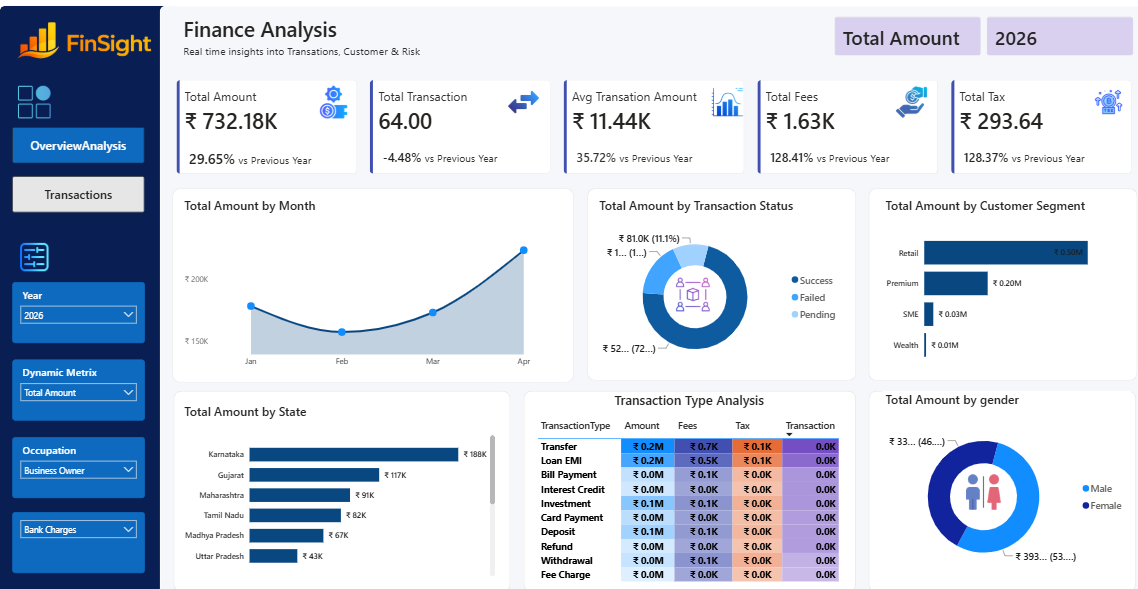

The page's visual inventory and layout, read from the dashboard file:
{"tool":"powerbi","page":{"name":"OverviewAnalysis","canvas":[1800,950],"ordinal":0},"visuals":[{"type":"shape","box":[13.5,13.5,279.8,920.5],"z":0},{"type":"shape","box":[260.5,13.5,1530,920.5],"z":1000},{"type":"image","box":[32.8,13.5,227.7,108.1],"z":2000},{"type":"cardVisual","fields":{"Data":["finance_transactions.Dashboard Title"]},"box":[279.8,0,1134.7,121.6],"z":3000},{"type":"cardVisual","fields":{"Data":["finance_transactions.Total Amount","finance_transactions.Total Transation","finance_transactions.Average Transation Amount","finance_transactions.Total Fees","finance_transactions.Total Tax"]},"box":[279.8,121.6,1489.7,157],"z":4000},{"type":"image","box":[503.6,137,50,50.2],"z":5000},{"type":"image","box":[1111.5,137,50,50.2],"z":6000},{"type":"image","box":[797,137,50,50.2],"z":7000},{"type":"image","box":[1700,137,50,50.2],"z":8000},{"type":"image","box":[1389.4,137,63.7,50.2],"z":9000},{"type":"shape","box":[279.8,295.2,620,300],"z":10000},{"type":"areaChart","fields":{"Category":["Calender Table.Month"],"Y":["finance_transactions.Total Amount"]},"box":[293.3,308.7,590.5,272.1],"z":11000},{"type":"cardVisual","fields":{"Data":["finance_transactions.Selected Dynamic Measure","finance_transactions.Selected Year"]},"box":[1296.7,25.1,472.8,71.4],"z":12000},{"type":"shape","box":[920.5,295.2,415,297.2],"z":13000},{"type":"donutChart","fields":{"Category":["finance_transactions.transaction_status"],"Y":["finance_transactions.Total Amount"]},"box":[934,308.7,384,272.1],"z":14000},{"type":"shape","box":[1354.6,295.2,415,297.2],"z":15000},{"type":"barChart","fields":{"Category":["customers.customer_segment"],"Y":["finance_transactions.Total Amount"]},"box":[1375.9,308.7,374.4,272.1],"z":16000},{"type":"shape","box":[281.7,607.8,520,310.7],"z":17000},{"type":"barChart","fields":{"Category":["customers.state"],"Y":["finance_transactions.Total Amount"]},"box":[293.3,627.1,490.1,272.1],"z":18000},{"type":"shape","box":[822,607.8,513.3,310.7],"z":19000},{"type":"tableEx","title":"Transaction Type Analysis","fields":{"Values":["finance_transactions.transaction_type","finance_transactions.Total Amount","finance_transactions.Total Fees","finance_transactions.Total Tax","finance_transactions.Total Transaction"]},"box":[837.5,607.8,480.5,310.7],"z":20000},{"type":"shape","box":[1354.6,607.8,413,310.7],"z":21000},{"type":"donutChart","fields":{"Category":["customers.gender"],"Y":["finance_transactions.Total Amount"]},"box":[1375.9,607.8,384,291.4],"z":22000},{"type":"image","box":[1055.5,426.5,56,65.6],"z":23000},{"type":"image","box":[1501.3,731.3,61.7,65.6],"z":24000},{"type":"pageNavigator","box":[32.8,200.7,204.5,133.1],"z":25000},{"type":"slicer","fields":{"Values":["Calender Table.Year"]},"box":[32.8,440,204.5,94.6],"z":26000},{"type":"slicer","fields":{"Values":["Dynamic Metrix.Dynamic Metrix"]},"box":[32.8,559.6,204.5,94.6],"z":27000},{"type":"slicer","fields":{"Values":["finance_transactions.merchant_category"]},"box":[32.8,795,204.5,94.6],"z":28000},{"type":"slicer","fields":{"Values":["customers.occupation"]},"box":[32.8,679.2,204.5,94.6],"z":29000},{"type":"image","box":[32.8,376.3,67.5,50.2],"z":29001},{"type":"image","box":[32.8,137,67.5,50.2],"z":29002}]}

Visuals, with their boxes on the page's 1800x950 design canvas (x1, y1, x2, y2). These are canvas units, not pixel positions in the 1138x589 screenshot, which may show the page scaled, cropped or inside an application window:
shape: detection(14, 14, 293, 934)
shape: detection(260, 14, 1790, 934)
image: detection(33, 14, 260, 122)
cardVisual - finance_transactions.Dashboard Title: detection(280, 0, 1414, 122)
cardVisual - finance_transactions.Total Amount x finance_transactions.Total Transation: detection(280, 122, 1770, 279)
image: detection(504, 137, 554, 187)
image: detection(1112, 137, 1162, 187)
image: detection(797, 137, 847, 187)
image: detection(1700, 137, 1750, 187)
image: detection(1389, 137, 1453, 187)
shape: detection(280, 295, 900, 595)
areaChart - Calender Table.Month x finance_transactions.Total Amount: detection(293, 309, 884, 581)
cardVisual - finance_transactions.Selected Dynamic Measure x finance_transactions.Selected Year: detection(1297, 25, 1770, 96)
shape: detection(920, 295, 1336, 592)
donutChart - finance_transactions.transaction_status x finance_transactions.Total Amount: detection(934, 309, 1318, 581)
shape: detection(1355, 295, 1770, 592)
barChart - customers.customer_segment x finance_transactions.Total Amount: detection(1376, 309, 1750, 581)
shape: detection(282, 608, 802, 918)
barChart - customers.state x finance_transactions.Total Amount: detection(293, 627, 783, 899)
shape: detection(822, 608, 1335, 918)
"Transaction Type Analysis" tableEx: detection(838, 608, 1318, 918)
shape: detection(1355, 608, 1768, 918)
donutChart - customers.gender x finance_transactions.Total Amount: detection(1376, 608, 1760, 899)
image: detection(1056, 426, 1112, 492)
image: detection(1501, 731, 1563, 797)
pageNavigator: detection(33, 201, 237, 334)
slicer - Calender Table.Year: detection(33, 440, 237, 535)
slicer - Dynamic Metrix.Dynamic Metrix: detection(33, 560, 237, 654)
slicer - finance_transactions.merchant_category: detection(33, 795, 237, 890)
slicer - customers.occupation: detection(33, 679, 237, 774)
image: detection(33, 376, 100, 426)
image: detection(33, 137, 100, 187)
